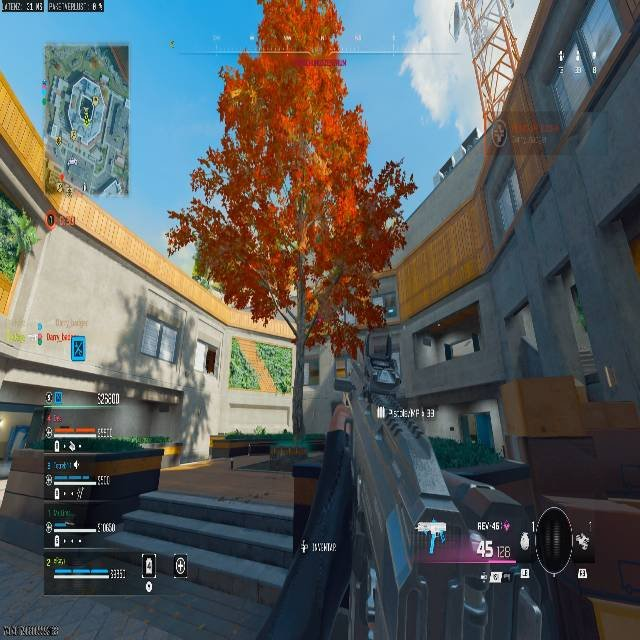player: (214, 63, 247, 150)
